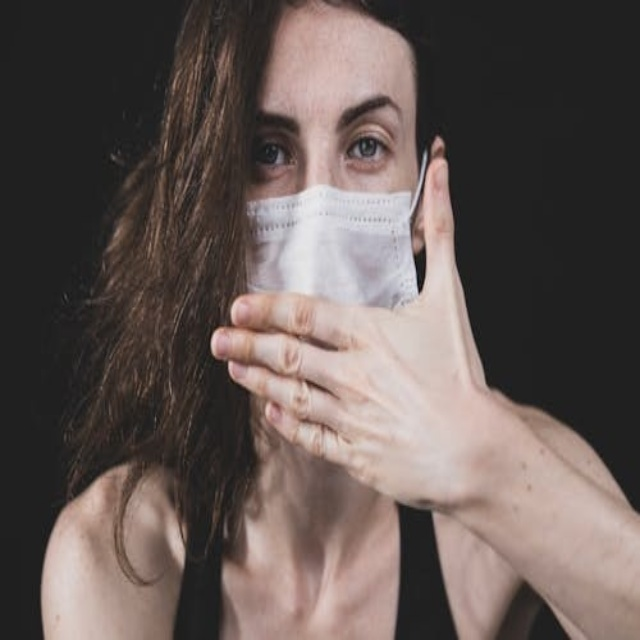Mascara: (243, 151, 428, 312)
Sin_gafas: (251, 88, 406, 177)
Sin_guantes: (220, 161, 490, 511)
